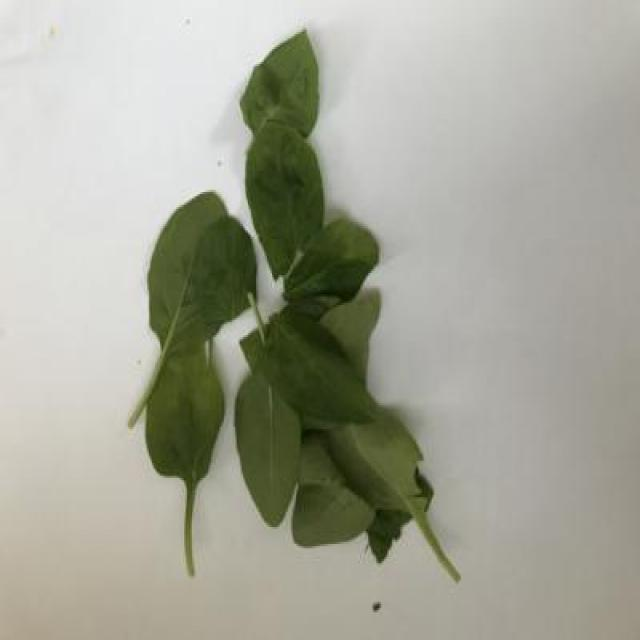compost: (125, 38, 488, 578)
